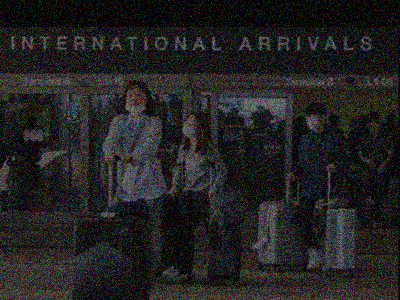mask_weared_incorrect: (124, 89, 145, 118)
with_mask: (182, 118, 199, 142), (305, 113, 321, 132)
without_mask: (368, 122, 379, 135)
